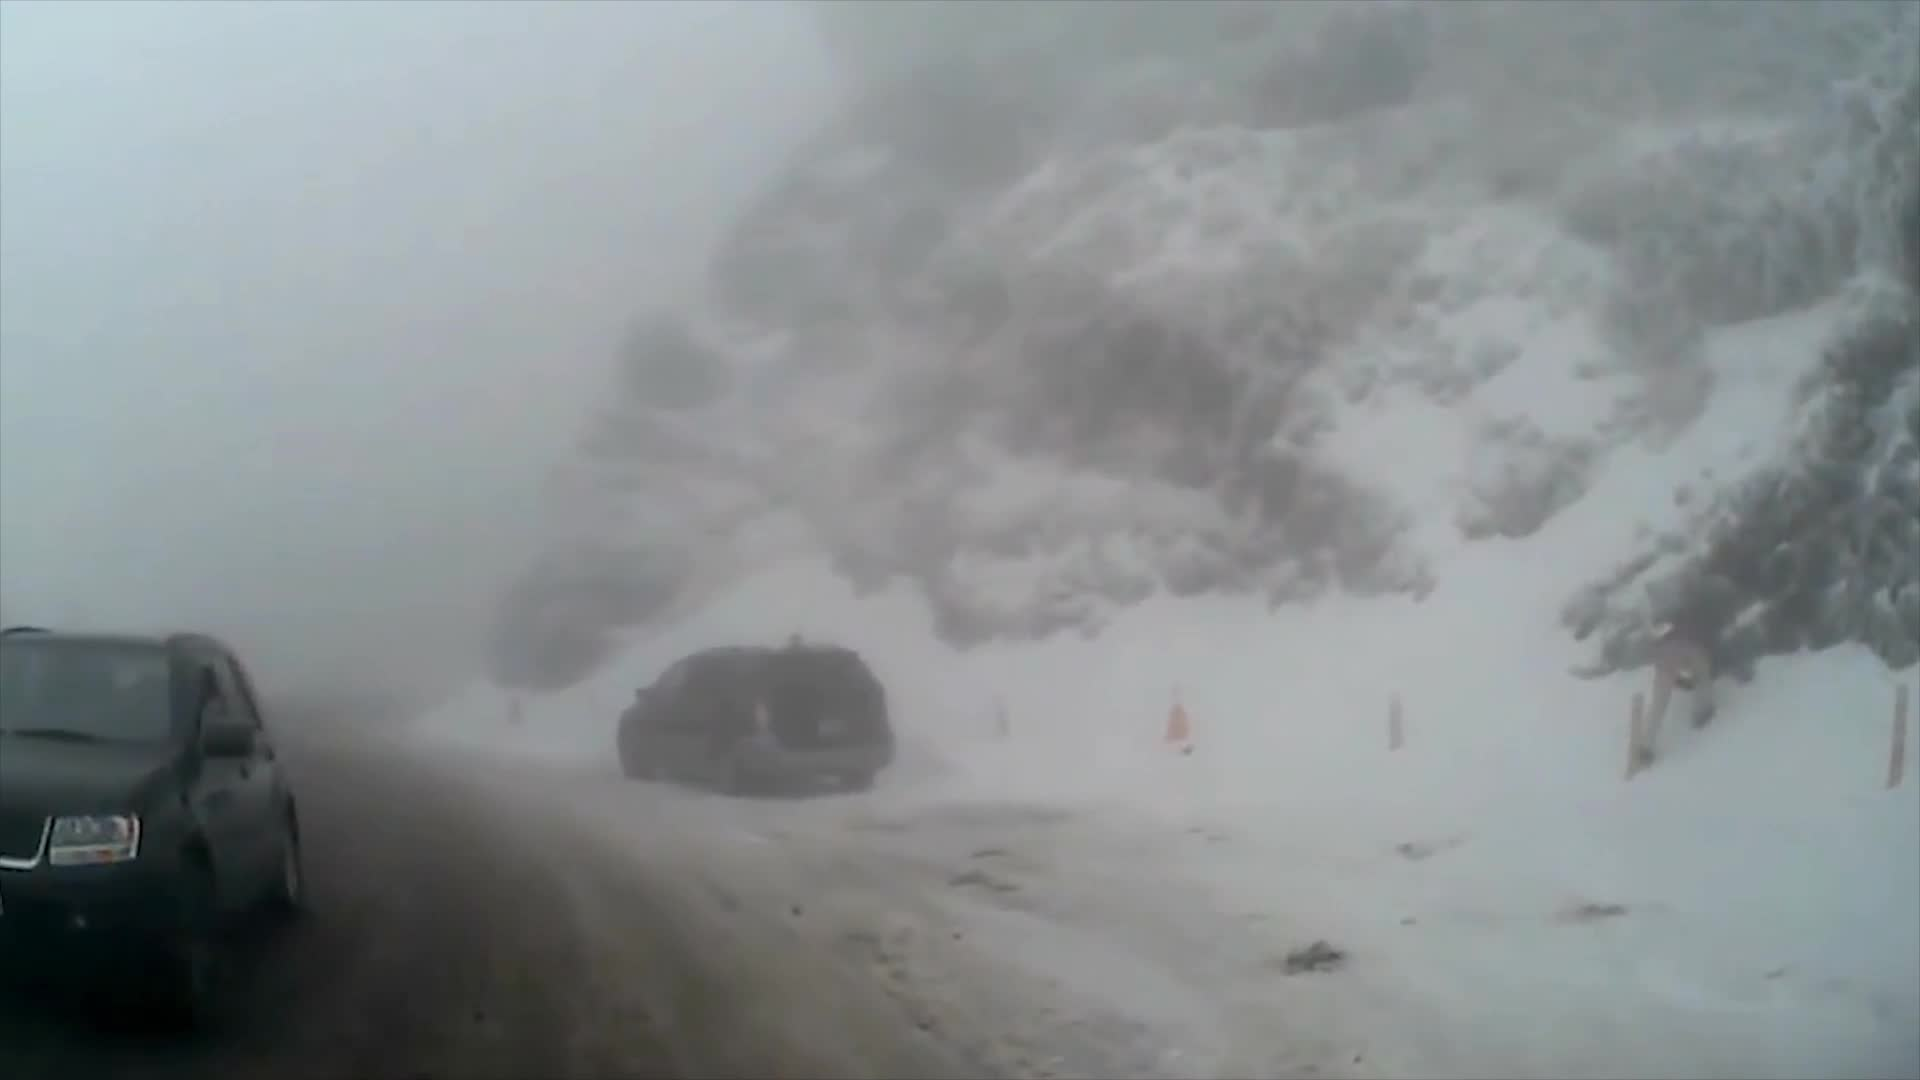vehicle: (0, 625, 306, 1040), (615, 644, 891, 794)
